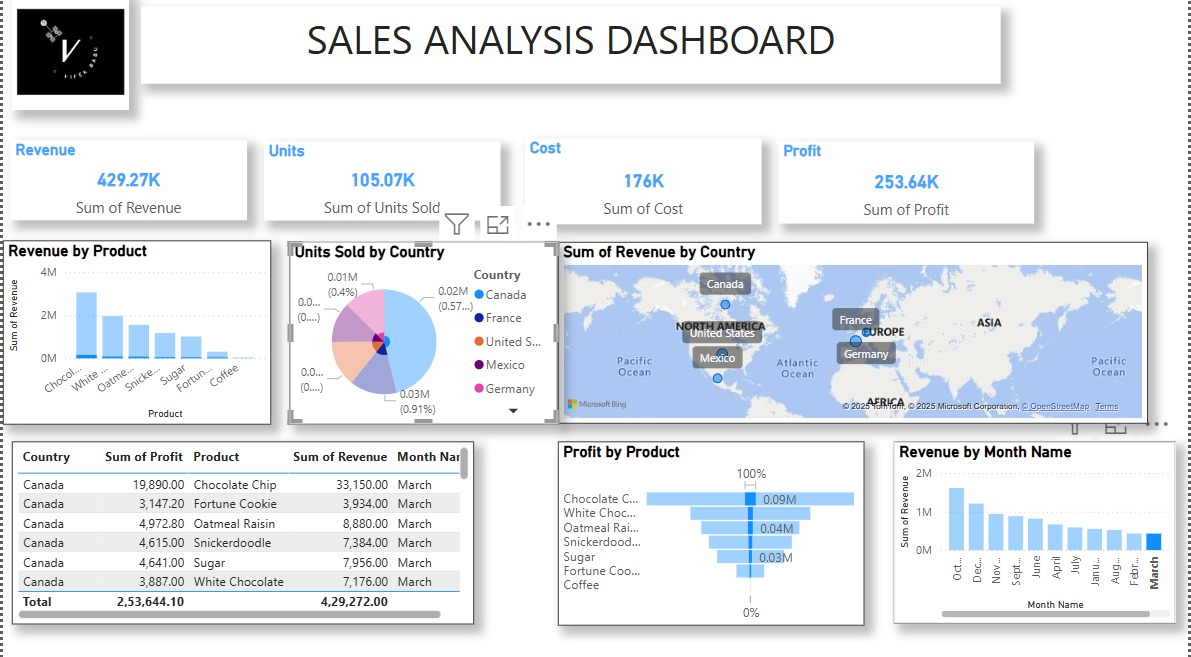

Layout of this report page (visuals, bound fields, positions):
{"tool":"powerbi","page":{"name":"Page 1","canvas":[1280,720],"ordinal":0},"visuals":[{"type":"image","box":[9.4,0,126.6,126.6],"z":0},{"type":"textbox","box":[149.3,15.1,927.9,83.2],"z":1000},{"type":"card","title":"Revenue","fields":{"Values":["Sheet1.Revenue"]},"box":[7.6,158.7,255.1,86.9],"z":2000},{"type":"card","title":"Units","fields":{"Values":["Sheet1.Units Sold"]},"box":[281.6,160.6,255.1,85],"z":3000},{"type":"card","title":"Cost","fields":{"Values":["Sheet1.Cost"]},"box":[563.2,156.9,255.1,92.6],"z":4000},{"type":"card","title":"Profit","fields":{"Values":["Sheet1.Profit"]},"box":[837.2,160.6,275.9,88.8],"z":5000},{"type":"columnChart","title":"Revenue by Product","fields":{"Y":["Sheet1.Revenue"],"Category":["Sheet1.Product"]},"box":[0,266.5,289.1,198.4],"z":6000},{"type":"pieChart","title":" Units Sold by Country","fields":{"Y":["Sheet1.Units Sold"],"Category":["Sheet1.Country"]},"box":[309.9,268.3,289.1,196.5],"z":6001},{"type":"funnel","title":"Profit by Product","fields":{"Category":["Sheet1.Product"],"Y":["Sheet1.Profit"]},"box":[599.1,483.8,330.7,198.4],"z":6002},{"type":"columnChart","title":"Revenue by Month Name","fields":{"Category":["Sheet1.Month Name"],"Y":["Sheet1.Revenue"]},"box":[961.9,483.8,304.3,196.5],"z":6004},{"type":"map","fields":{"Category":["Sheet1.Country"],"Size":["Sheet1.Revenue"]},"box":[599.1,268.8,636.4,195.9],"z":6005},{"type":"tableEx","fields":{"Values":["Sheet1.Country","Sheet1.Profit","Sheet1.Product","Sheet1.Revenue","Sheet1.Month Name"]},"box":[9.7,484.1,498.7,197.5],"z":6006}]}

Visuals, with their boxes in screenshot pixels (x1, y1, x2, y2), scaled from the page's 1280x720 canvas onto the 1191x657 screenshot:
image: locate(9, 0, 127, 116)
textbox: locate(139, 14, 1002, 90)
"Revenue" card: locate(7, 145, 244, 224)
"Units" card: locate(262, 147, 499, 224)
"Cost" card: locate(524, 143, 761, 228)
"Profit" card: locate(779, 147, 1036, 228)
"Revenue by Product" columnChart: locate(0, 243, 269, 424)
" Units Sold by Country" pieChart: locate(288, 245, 557, 424)
"Profit by Product" funnel: locate(557, 441, 865, 623)
"Revenue by Month Name" columnChart: locate(895, 441, 1178, 621)
map - Sheet1.Country x Sheet1.Revenue: locate(557, 245, 1150, 424)
tableEx - Sheet1.Country x Sheet1.Profit: locate(9, 442, 473, 622)
